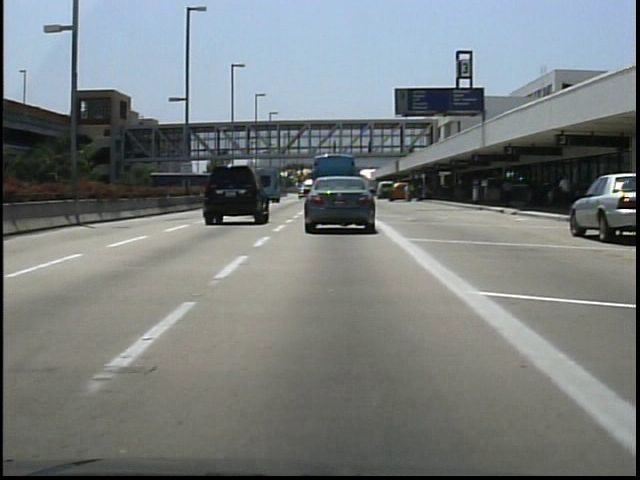person: (498, 175, 516, 211), (557, 170, 574, 206), (402, 179, 418, 206), (365, 138, 378, 160), (329, 136, 342, 156)
